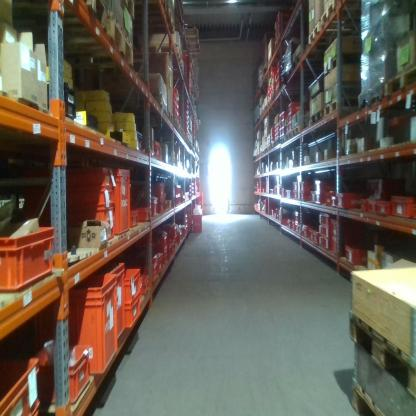pallet: (17, 14, 135, 71), (350, 310, 416, 401), (4, 2, 107, 32), (349, 375, 386, 415), (322, 50, 365, 78), (384, 63, 415, 98), (137, 9, 176, 35), (325, 94, 363, 118), (320, 1, 342, 29), (121, 1, 168, 9), (308, 21, 322, 46), (308, 109, 323, 129), (291, 51, 304, 73), (291, 122, 304, 138), (285, 129, 292, 144)
small_load_carrier: (41, 269, 116, 373), (0, 226, 54, 291), (39, 344, 88, 400), (1, 353, 40, 415), (58, 207, 112, 241), (57, 164, 113, 189), (57, 185, 112, 210), (109, 172, 130, 236), (109, 262, 124, 338), (345, 238, 376, 269), (122, 291, 143, 330), (126, 257, 155, 285), (328, 218, 346, 258), (124, 268, 143, 301), (392, 193, 412, 224), (139, 229, 167, 251), (337, 191, 368, 208), (142, 252, 164, 275), (143, 195, 158, 222), (160, 224, 178, 241), (152, 181, 166, 198), (146, 143, 160, 160), (141, 270, 150, 296), (316, 180, 337, 191), (135, 206, 150, 221), (379, 198, 393, 214), (319, 210, 330, 227), (319, 236, 331, 250), (370, 198, 380, 214), (319, 225, 331, 238), (157, 198, 165, 217), (194, 214, 202, 233), (361, 197, 371, 212), (315, 190, 325, 204), (307, 227, 316, 241), (288, 103, 300, 112), (312, 231, 319, 246), (131, 212, 137, 229), (300, 190, 310, 200), (300, 182, 312, 190), (325, 191, 331, 206), (302, 225, 309, 237), (162, 248, 167, 264), (332, 196, 338, 209), (310, 191, 316, 204), (412, 206, 416, 219)
